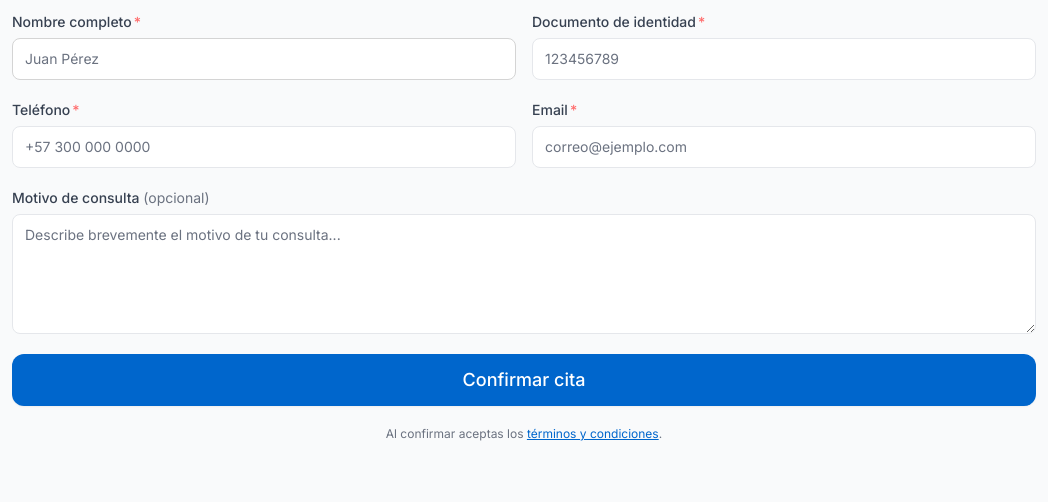
Test: AppointmentForm - unidad › muestra errores de validación cuando se envía el formulario vacío
Click the button "Confirmar cita": click(524, 380) 12,354 -> 1036,406
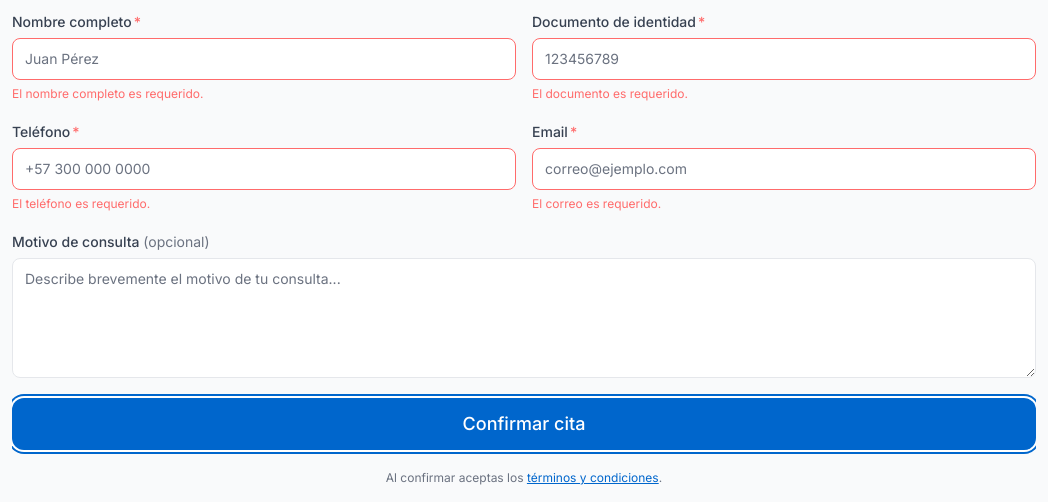
Expected: the text "El nombre completo es requerido." is shown, 12,86 -> 204,101
Expected: the text "El documento es requerido." is shown, 532,86 -> 688,101
Expected: the text "El teléfono es requerido." is shown, 12,196 -> 150,211
